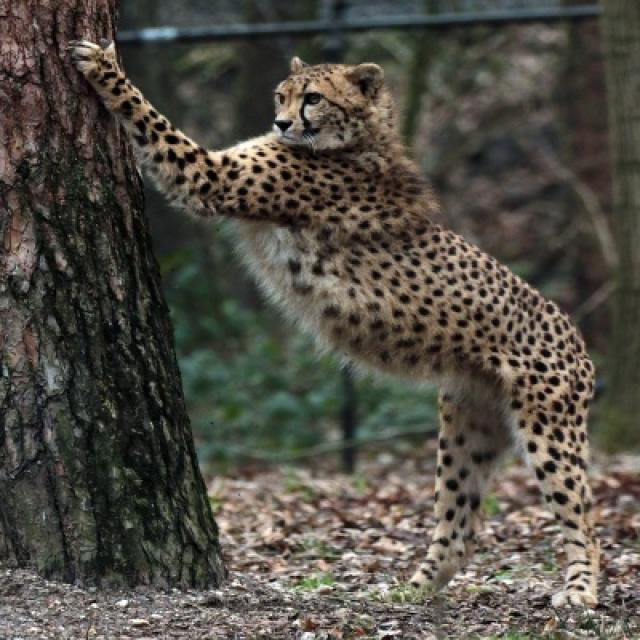Cheetah: (65, 27, 608, 612)
